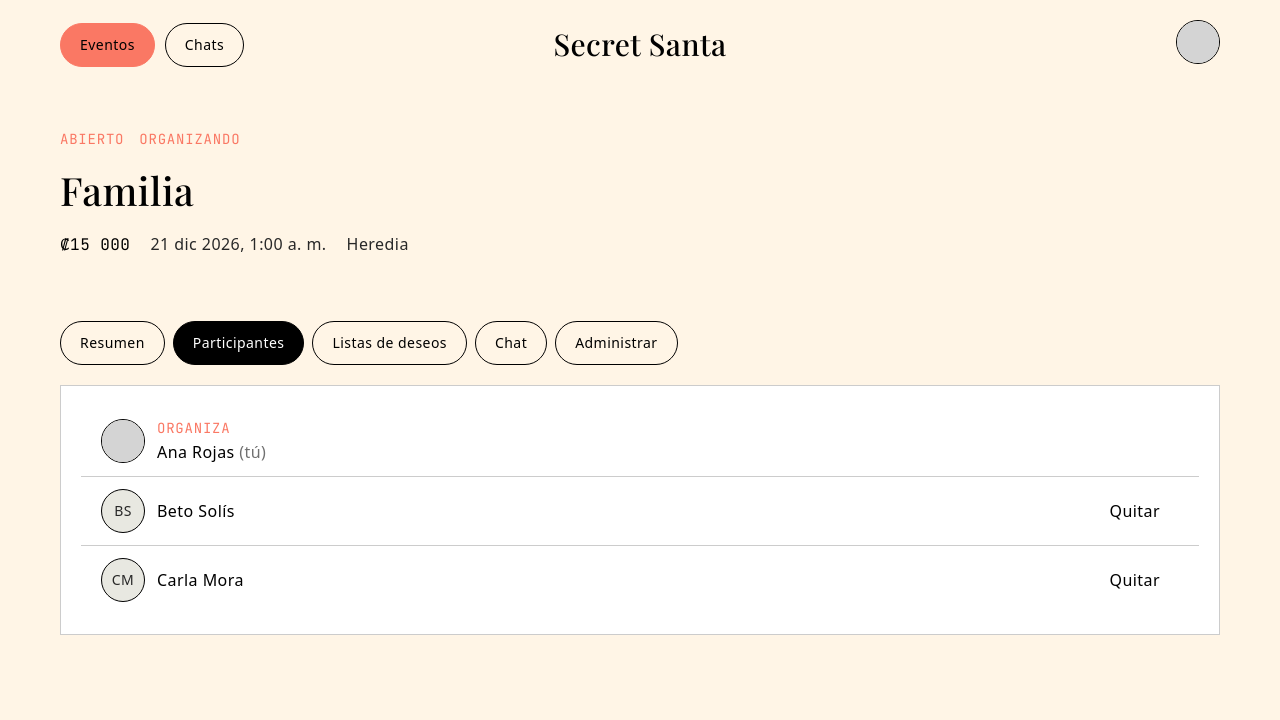
Participants tab › Remove confirms, deletes and refreshes the roster and the header count
expect the heading "Familia" is shown: met, box [60,164,194,216]
What coordinates should you click on to do the following:
click the button with aria-label "Quitar a Carla Mora"
I would click on:
 (1135, 580)
Its box is [1090,558,1179,602].
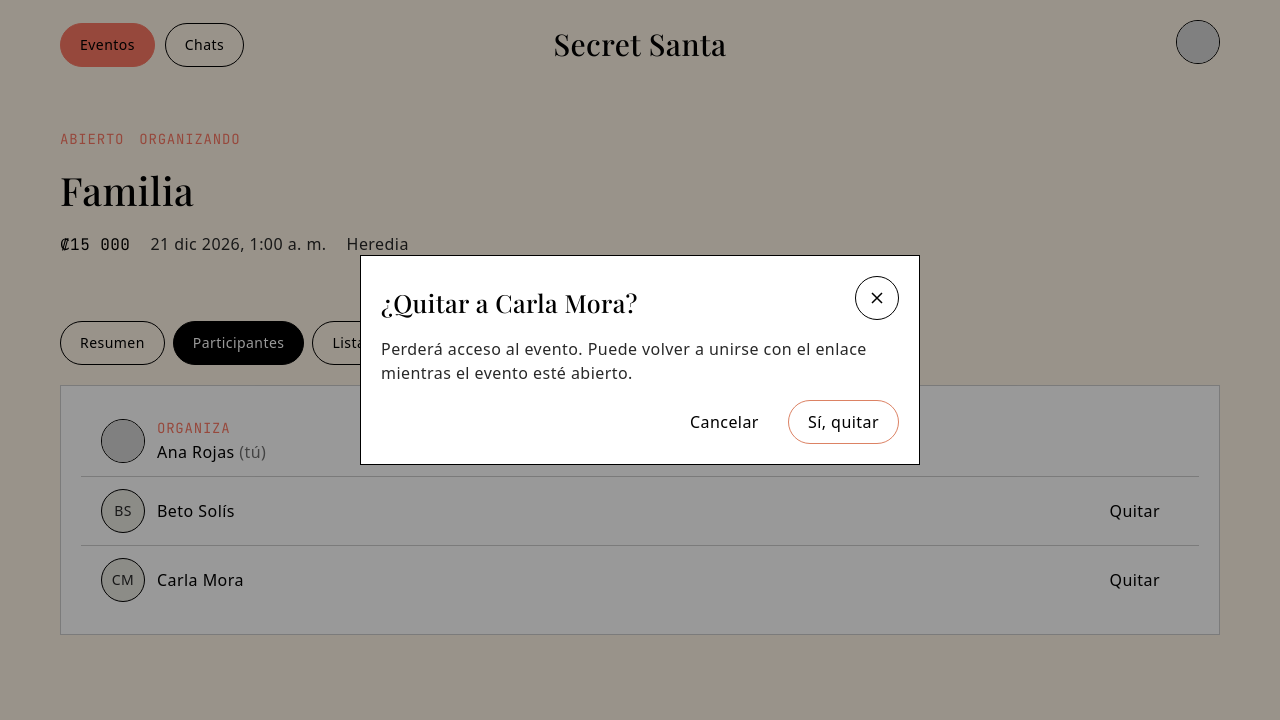
expect the dialog "¿Quitar a Carla Mora?" shows "Perderá acceso al evento.": met, box [381,338,867,384]
What coordinates should you click on to do the following:
click the button "Cancelar"
I would click on:
 (724, 422)
Its box is [671,400,778,444].
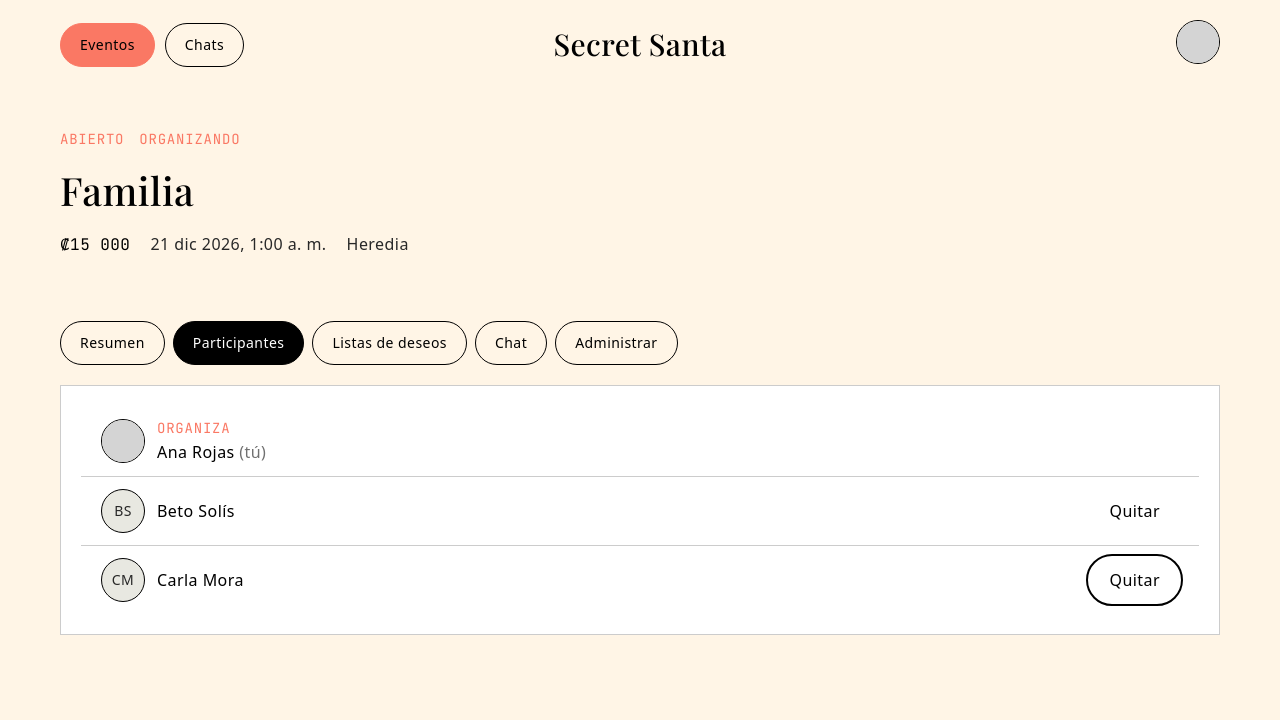
What coordinates should you click on to do the following:
click the button with aria-label "Quitar a Carla Mora"
I would click on:
 (1135, 580)
Its box is [1090,558,1179,602].
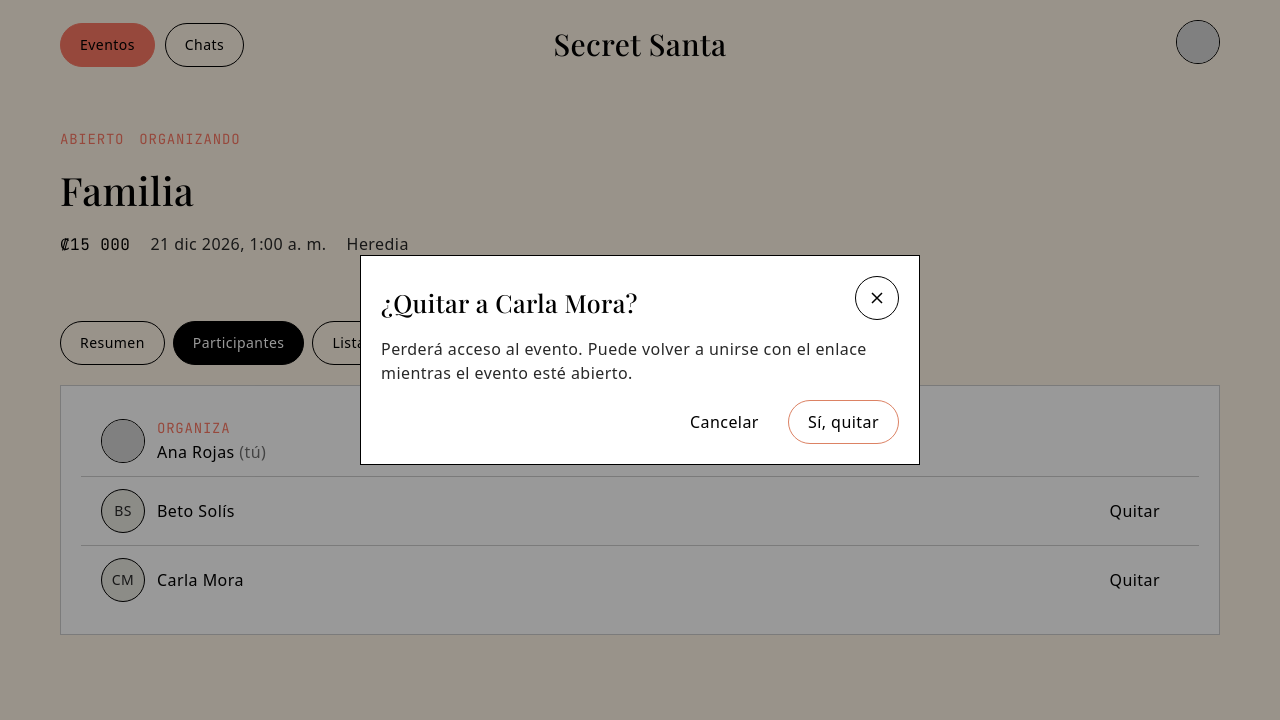
What coordinates should you click on to do the following:
click the button "Sí, quitar"
I would click on:
 (843, 422)
Its box is [788,400,899,444].
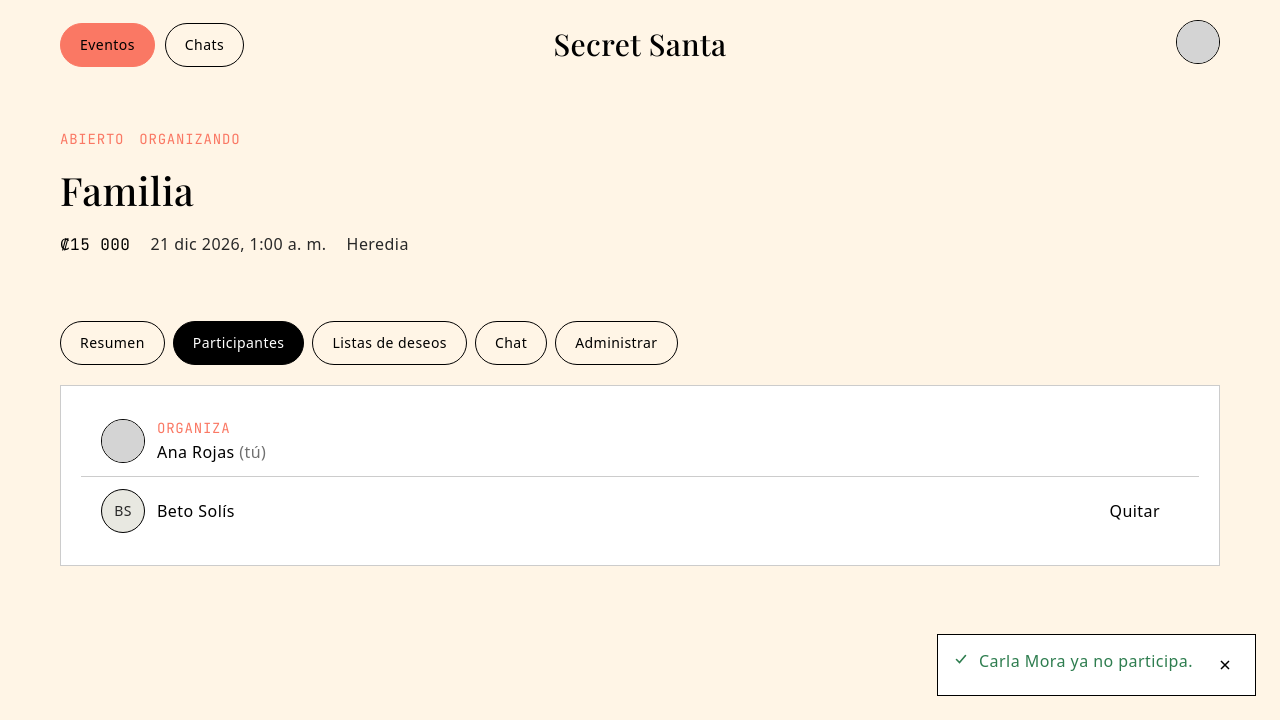
expect the text "Carla Mora ya no participa." is shown: met, box [979,649,1193,673]
